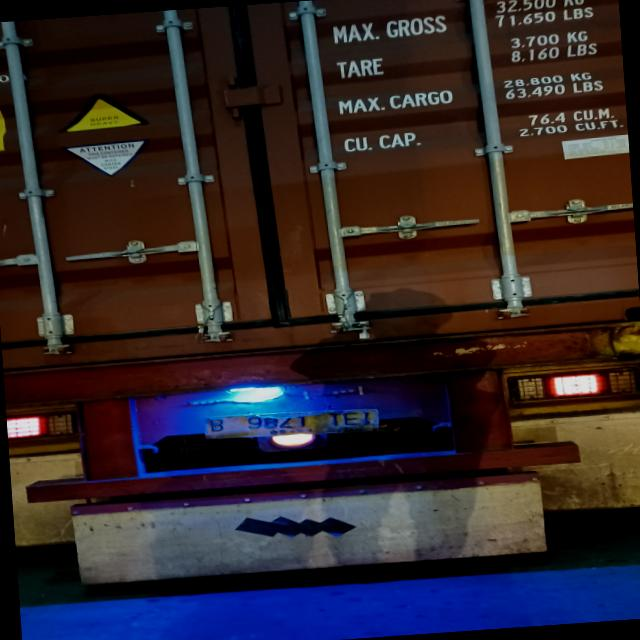seal: (350, 318, 373, 339)
